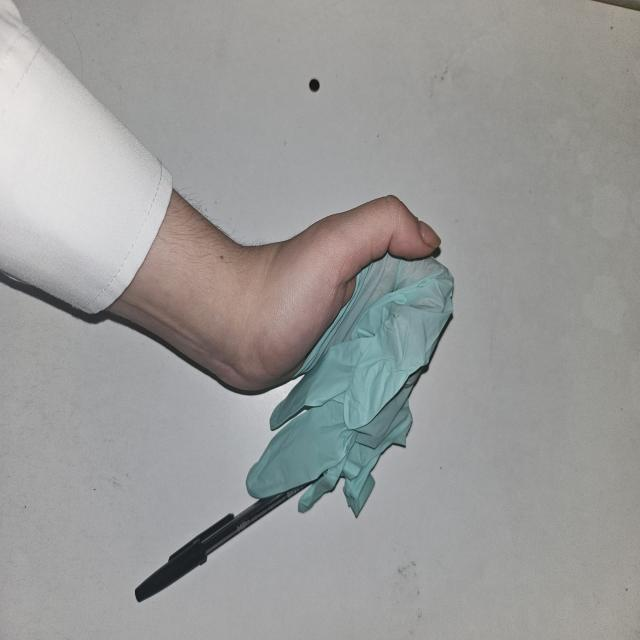glove_partial: (227, 194, 456, 518)
